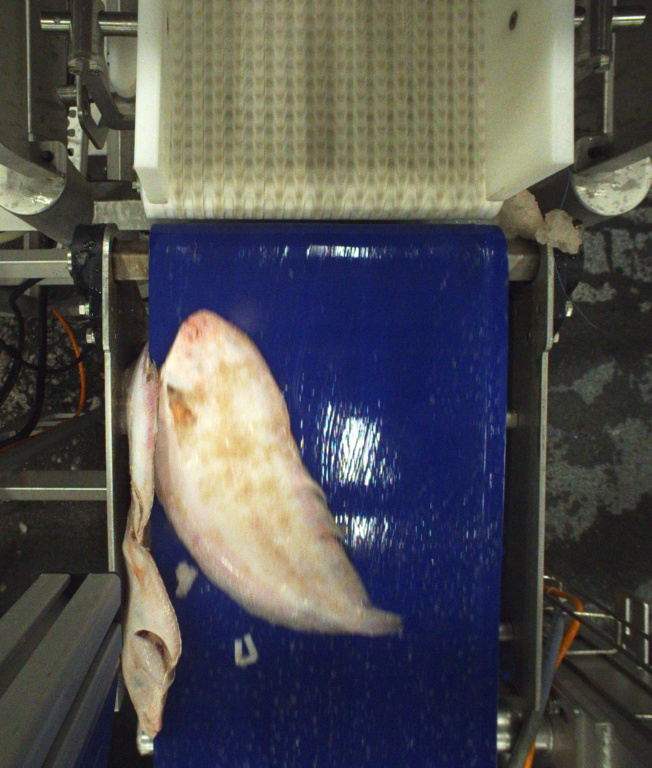SOL: (153, 309, 403, 639)
